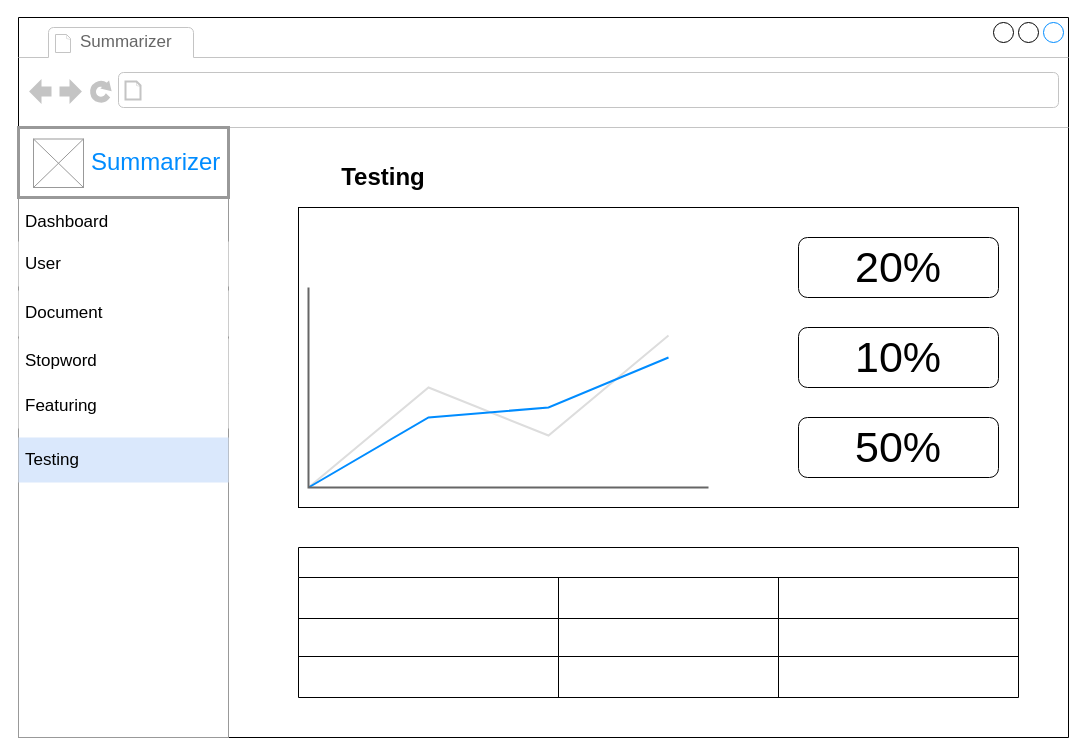
Image size: 1086x755. Some labels were removed from this diagram. The centre of each missing label's shape, as x and y in pixels:
"Document For Testing" goes at point (658, 622).
"https://" goes at point (273, 90).
